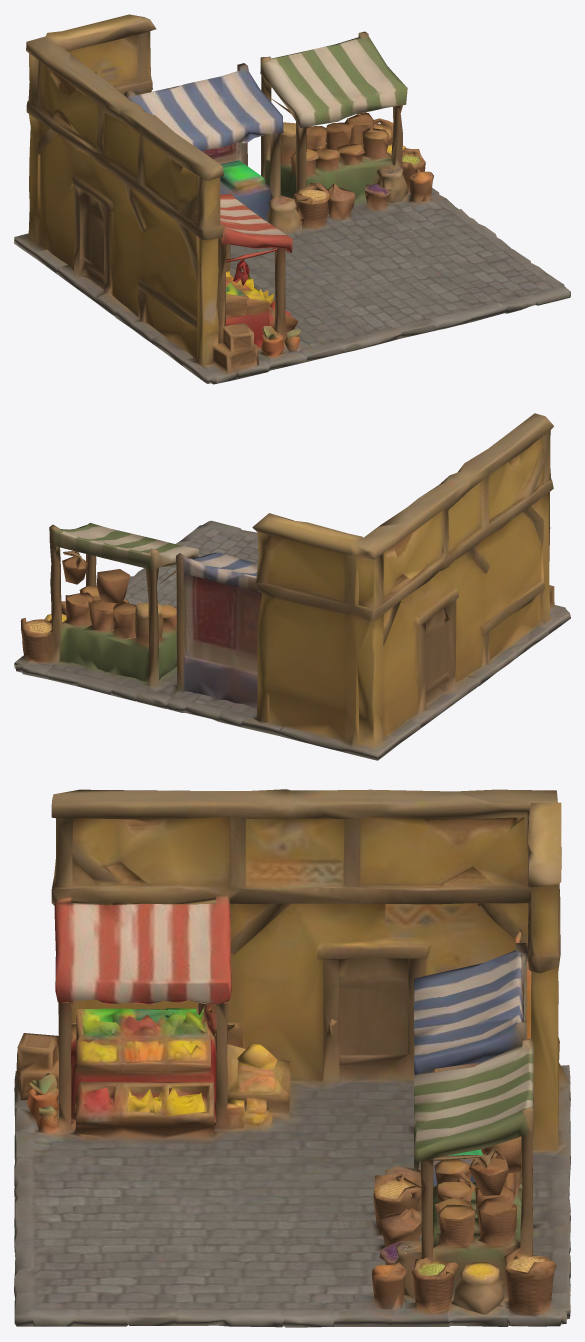
Rendered from market_main.glb.
The picture shows the model from 3 angles, top to bottom: view 1: azimuth 30°, elevation 25°; view 2: azimuth 150°, elevation 25°; view 3: azimuth 270°, elevation 25°; orthographic projection. The views are drawn at different scales.
Visible parts, largest first — view 1: tripo_node_bb6aef9d-4597-42ca-be73-654d22670b7e; view 2: tripo_node_bb6aef9d-4597-42ca-be73-654d22670b7e; view 3: tripo_node_bb6aef9d-4597-42ca-be73-654d22670b7e.
Boxes of the visible parts, x1,y1,x2,y2 form: tripo_node_bb6aef9d-4597-42ca-be73-654d22670b7e: (14, 14, 570, 384); tripo_node_bb6aef9d-4597-42ca-be73-654d22670b7e: (14, 413, 570, 760); tripo_node_bb6aef9d-4597-42ca-be73-654d22670b7e: (14, 789, 570, 1327).
Size of the model in its own units: 1 by 0.5358 by 0.9228.
Materials: 1 (1 with a texture image).
